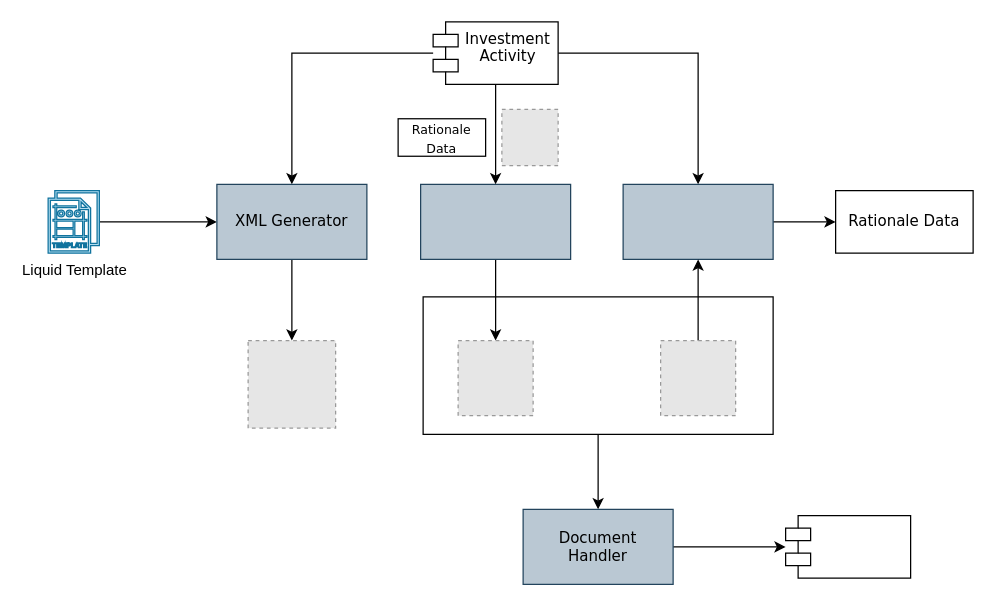
The diagram is 995 pixels wide and 606 high, and some of its shapes have lost their labels. Grey dashed boxes stand in for pictures. Here are the shapes that lost their labels. From the top down, the box of each, then its label:
(419, 183, 571, 259): Document Generator
(622, 183, 773, 259): Document Processor
(784, 514, 911, 578): Generation Engine
